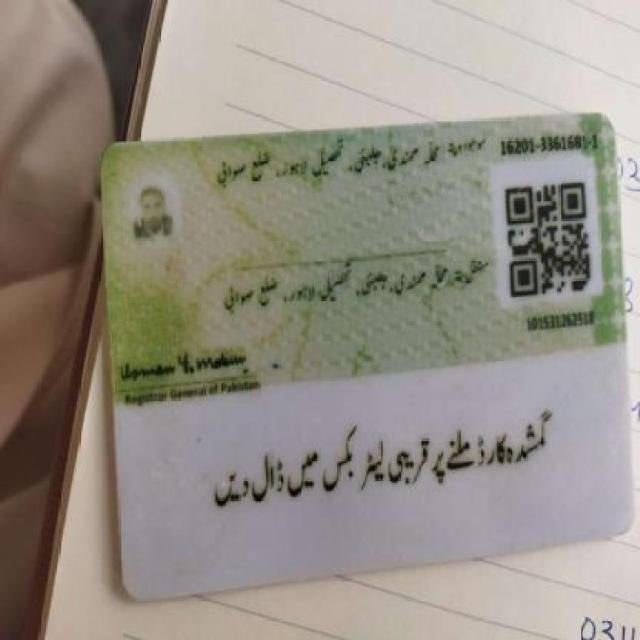Back: (91, 114, 632, 580)
